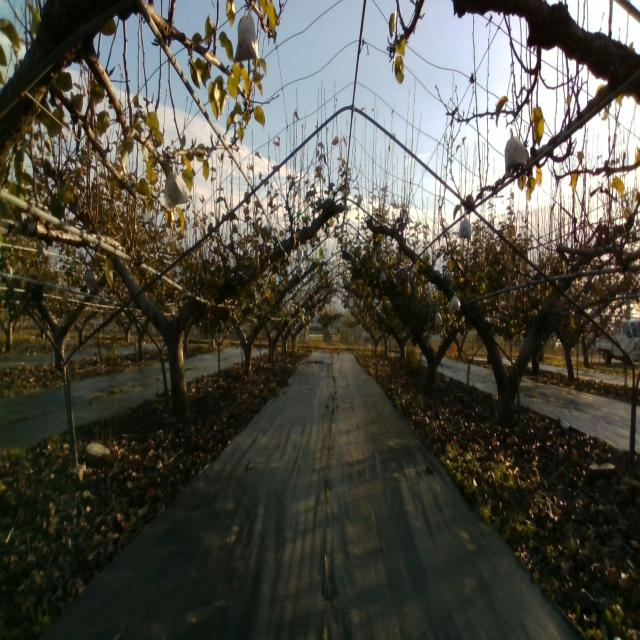pearbags: (233, 15, 259, 63), (504, 128, 527, 176), (164, 170, 188, 207), (458, 212, 472, 240), (448, 292, 461, 312)
